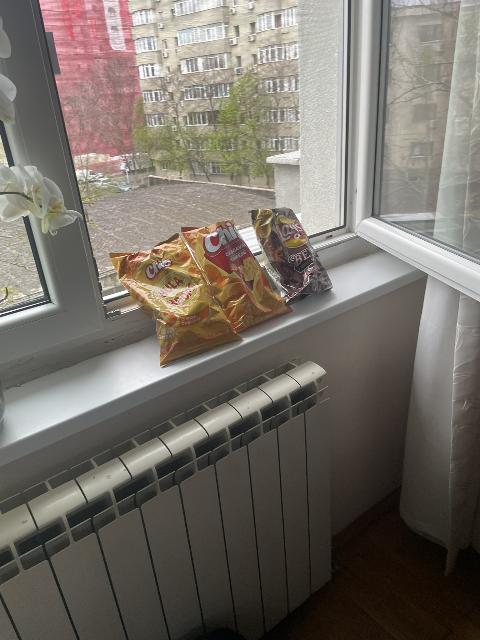Chio Cascaval 125g: (181, 219, 291, 334)
Chio Hula Hoops Cheese 70g: (110, 232, 245, 361)
Lays Beef Grilled Ribs 125g: (251, 206, 330, 303)
